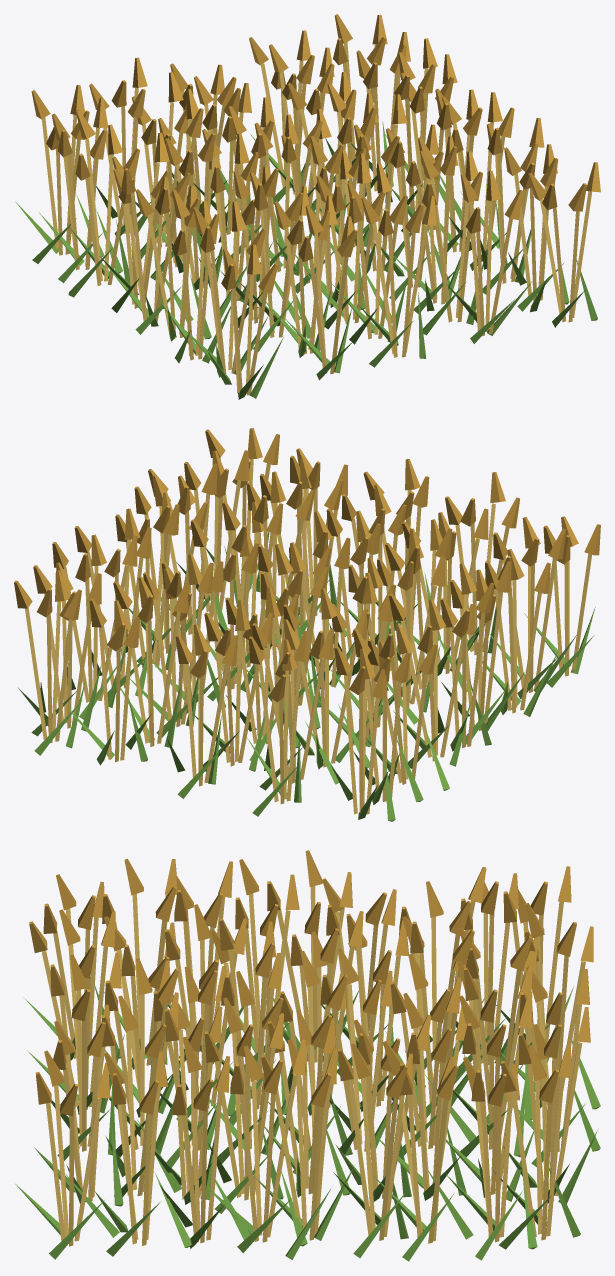
File: crop_wheat_full.glb
3 views of the same model, one above another, from view 1: azimuth 30°, elevation 25°; view 2: azimuth 150°, elevation 25°; view 3: azimuth 270°, elevation 25° (orthographic). The views are drawn at different scales.
Visible parts, largest first — view 1: crop_wheat_full; view 2: crop_wheat_full; view 3: crop_wheat_full.
Part boxes in pixels (x1,y1,x2,y2): crop_wheat_full: (15,14,600,399); crop_wheat_full: (14,428,600,821); crop_wheat_full: (15,850,600,1261).
Bounding box in the file's own units: 3.03 × 1.24 × 3.35.
Materials: 1 (1 with a texture image).
